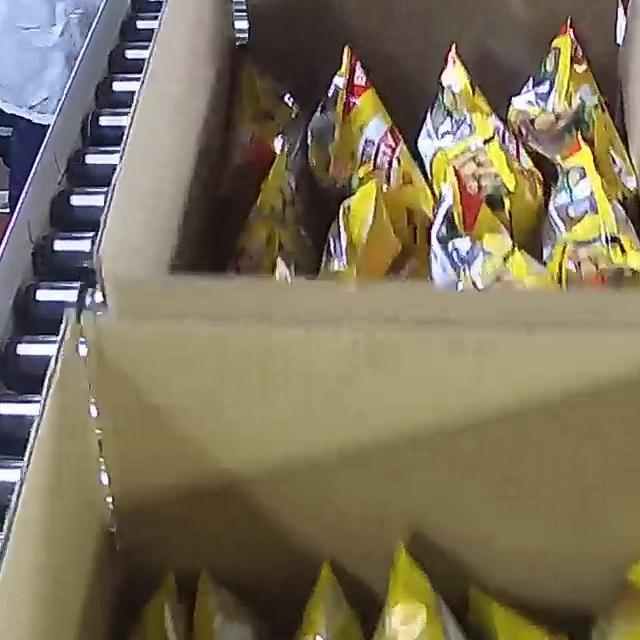salted: (232, 25, 640, 297), (87, 491, 640, 640)
